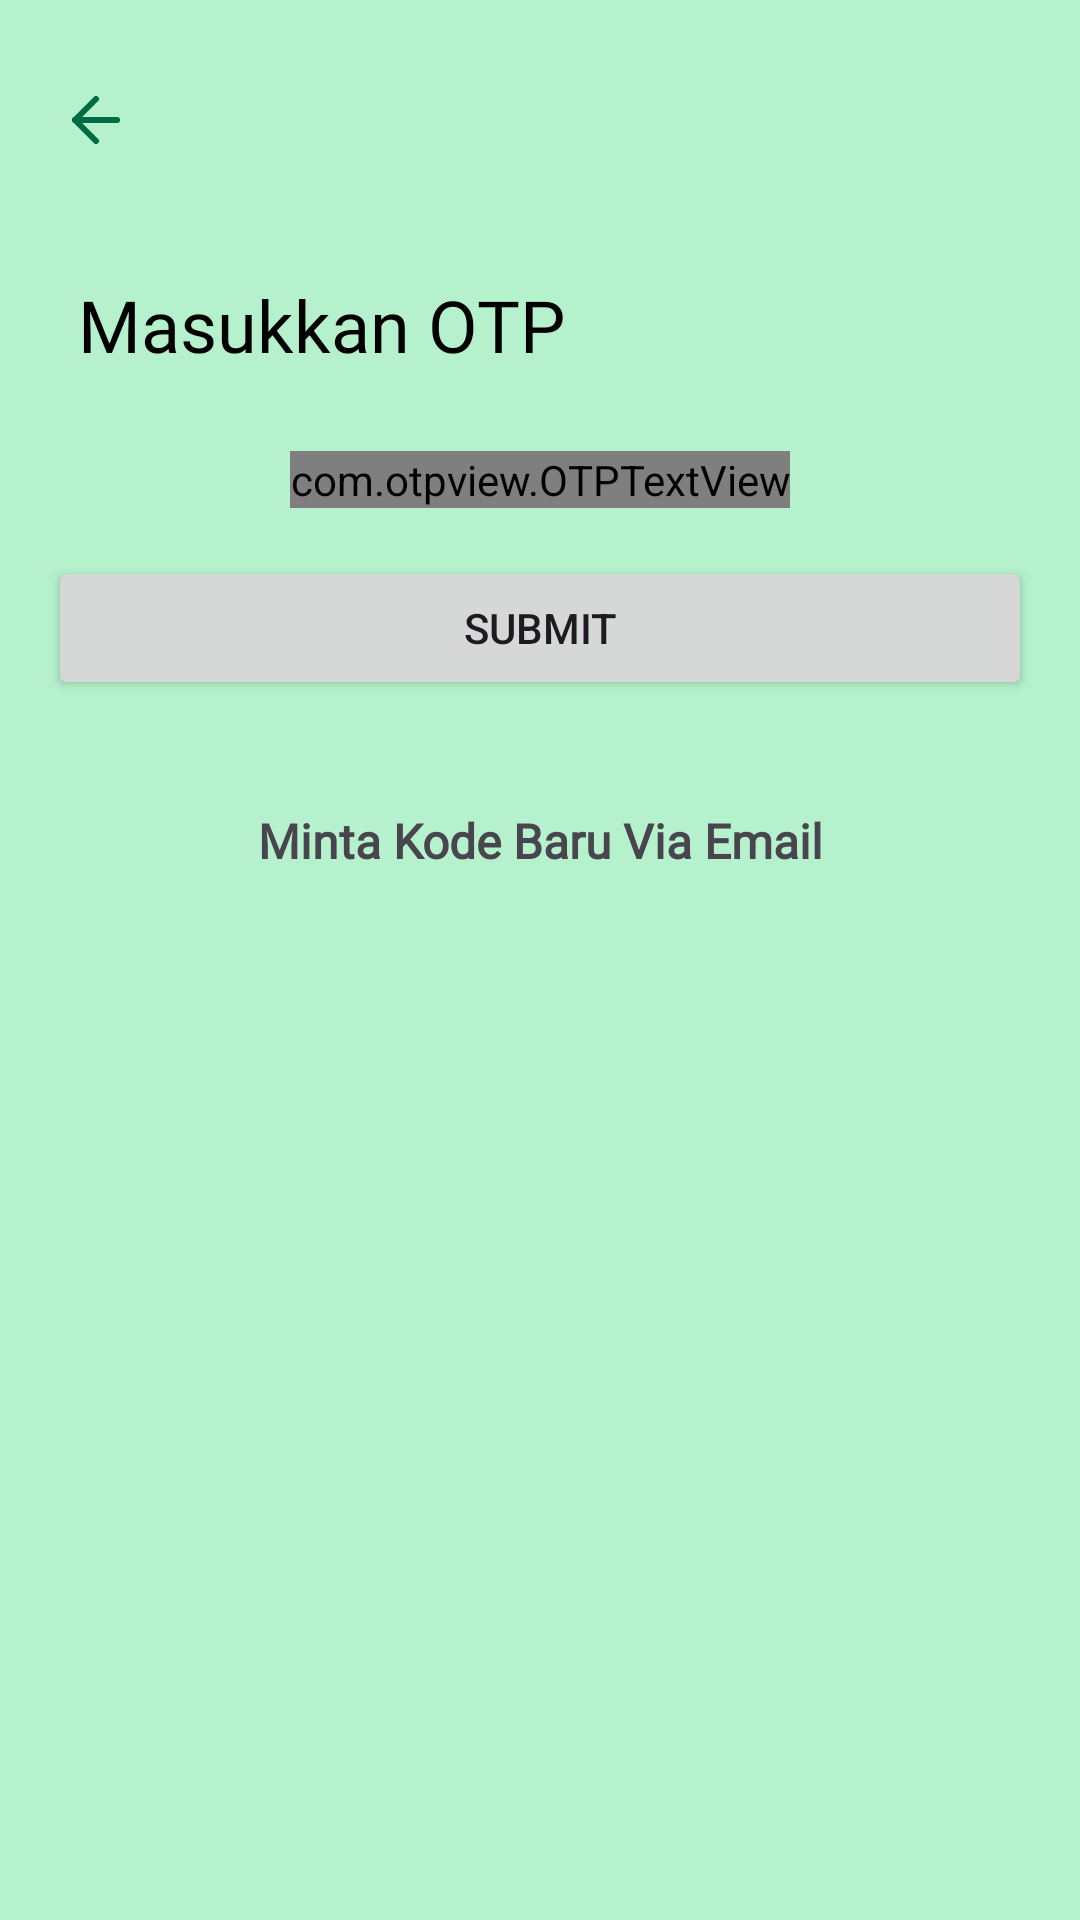

Icons on this 1080*1920 Android screen, each with the point to tap as (x,y):
back: (96,120)
